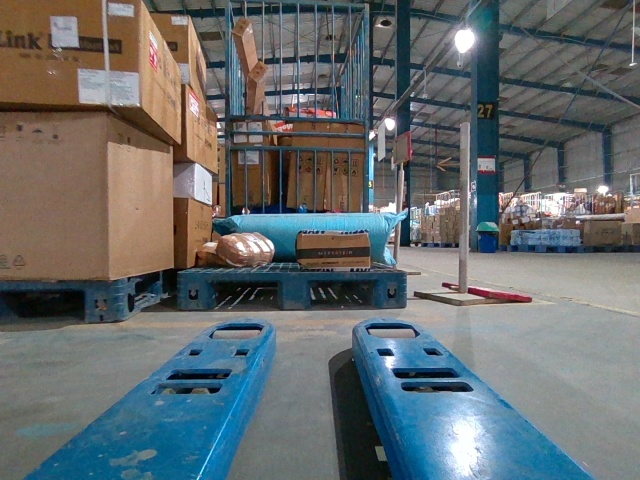block: (84, 278, 134, 326), (373, 268, 407, 312), (178, 272, 210, 308), (279, 271, 308, 309)
front: (177, 271, 406, 310)
hole pallet: (206, 275, 283, 310), (306, 275, 378, 308)
